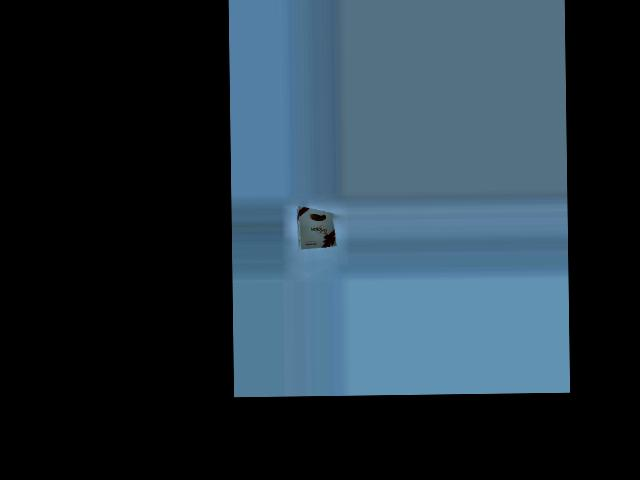chocolate: (288, 203, 337, 248)
